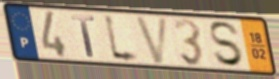3: (173, 16, 206, 68)
4: (40, 9, 69, 60)
L: (102, 11, 143, 66)
S: (207, 20, 246, 69)
T: (69, 14, 97, 59)
V: (133, 15, 172, 66)
